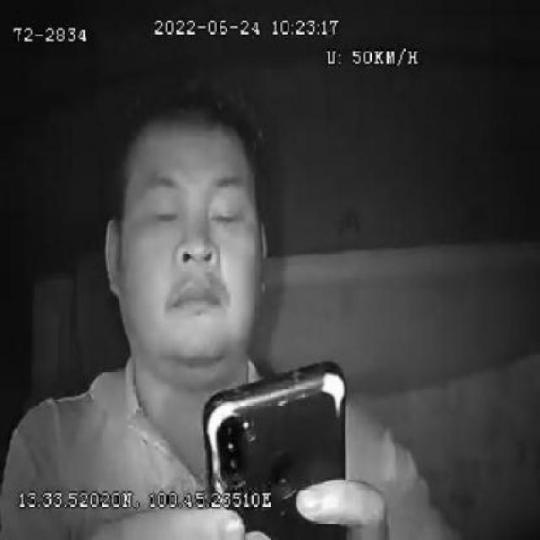phone: (199, 358, 349, 540)
